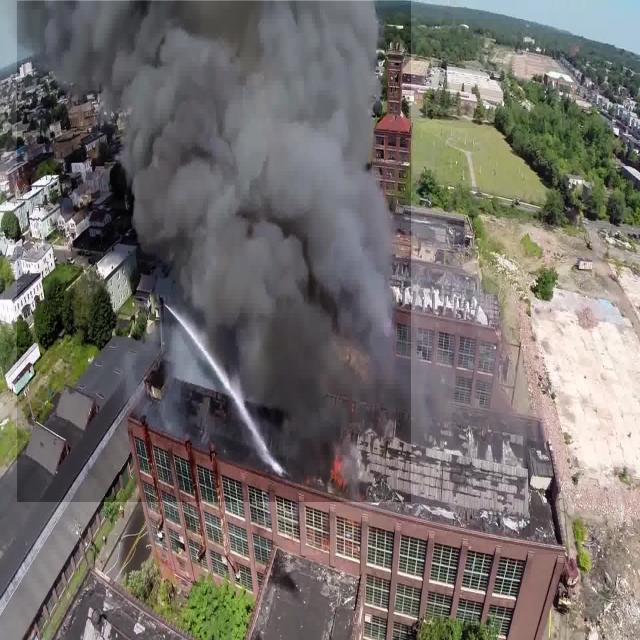Fire: (300, 446, 372, 555)
Smoke: (17, 1, 411, 502)
